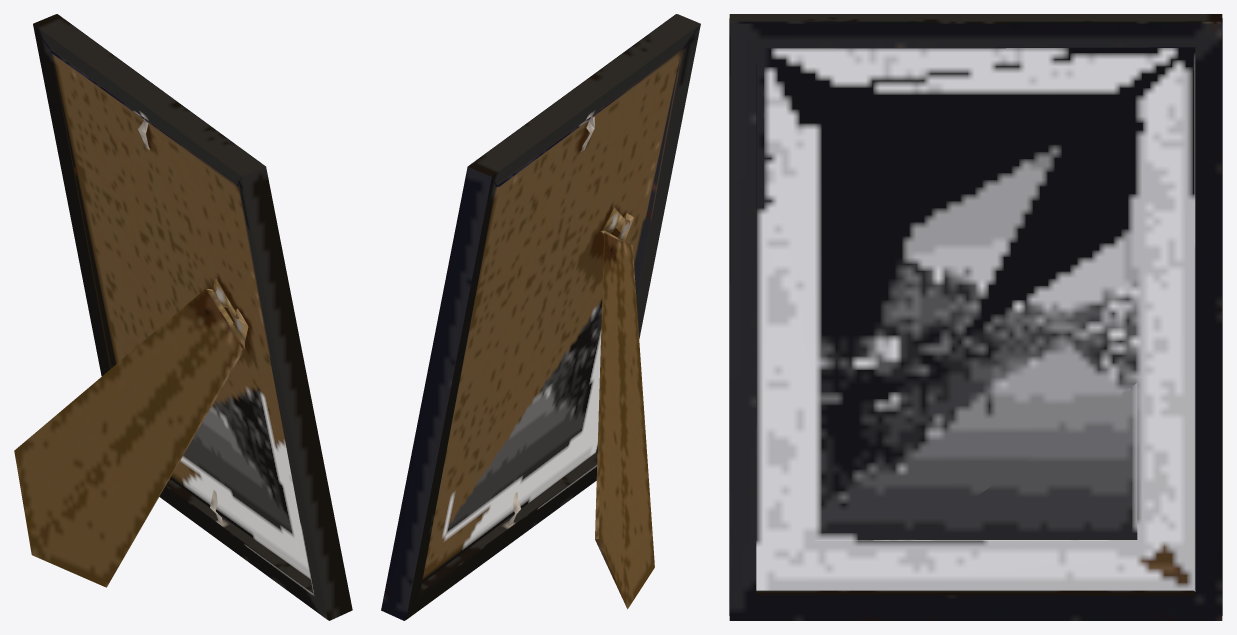
Rendered from standing_picture_frame_01.glb.
The picture shows the model from 3 angles, left to right: view 1: azimuth 30°, elevation 25°; view 2: azimuth 150°, elevation 25°; view 3: azimuth 270°, elevation 25°; orthographic projection. The views are drawn at different scales.
Parts seen in each view (by area): view 1: mesh; view 2: mesh; view 3: mesh.
Boxes of the visible parts, x1,y1,x2,y2 form: mesh: [14, 14, 352, 620]; mesh: [381, 14, 700, 620]; mesh: [729, 14, 1222, 620].
Size of the model in its own units: 0.0994 by 0.2497 by 0.2009.
1 material, 1 textured.
